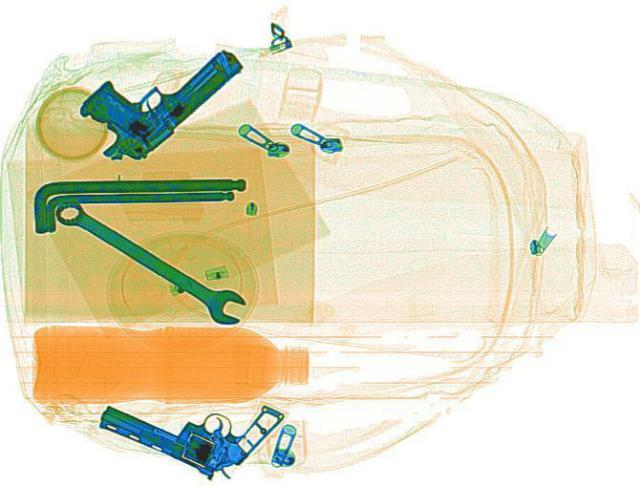Gun: (48, 19, 254, 170), (89, 352, 288, 481)
Wrench: (44, 190, 254, 326)
